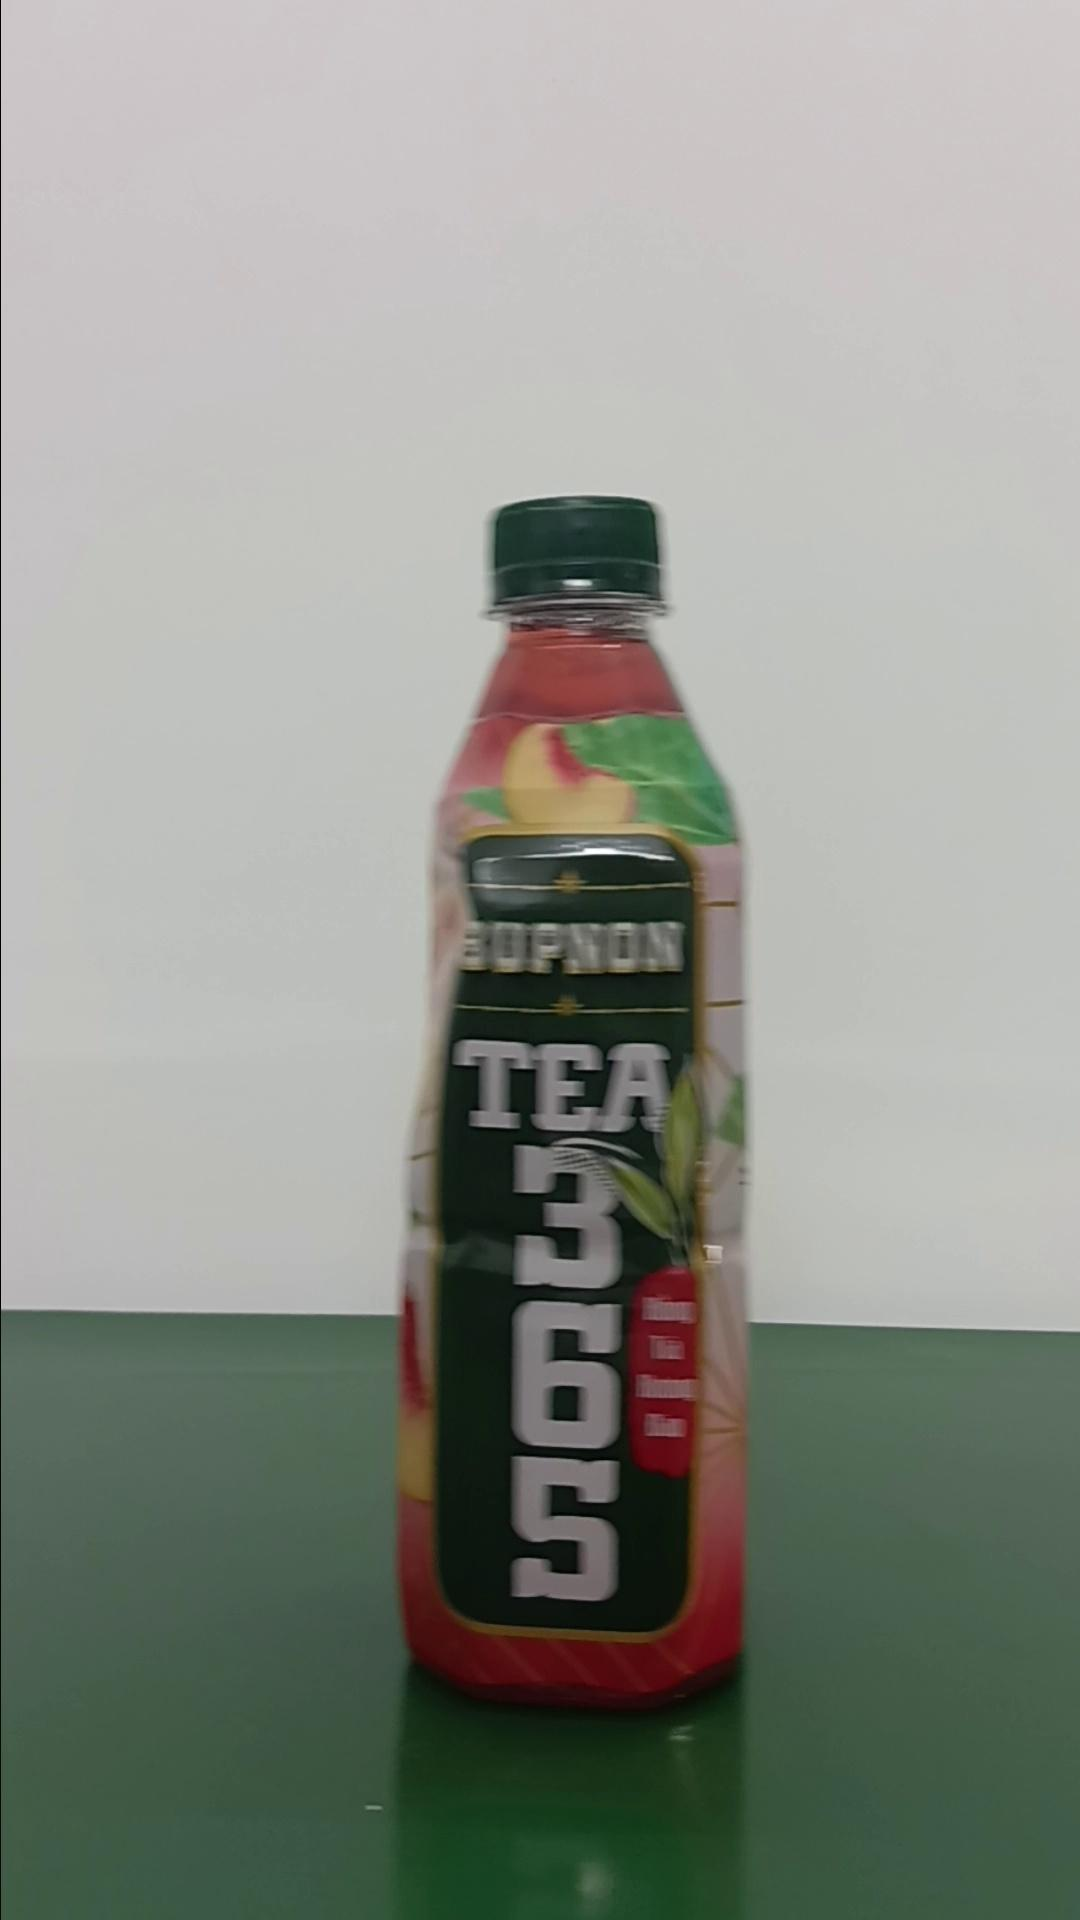loi meo sp: (390, 492, 752, 1712)
